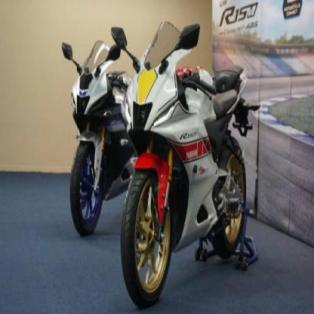Motocicleta: (114, 18, 254, 309), (58, 20, 134, 240)
